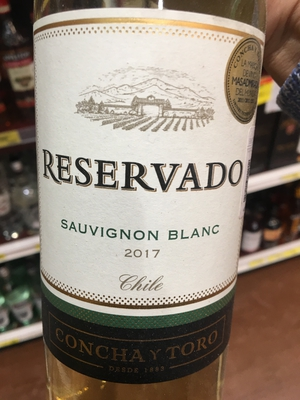reservado sauvignon blanc: (32, 3, 265, 400)
